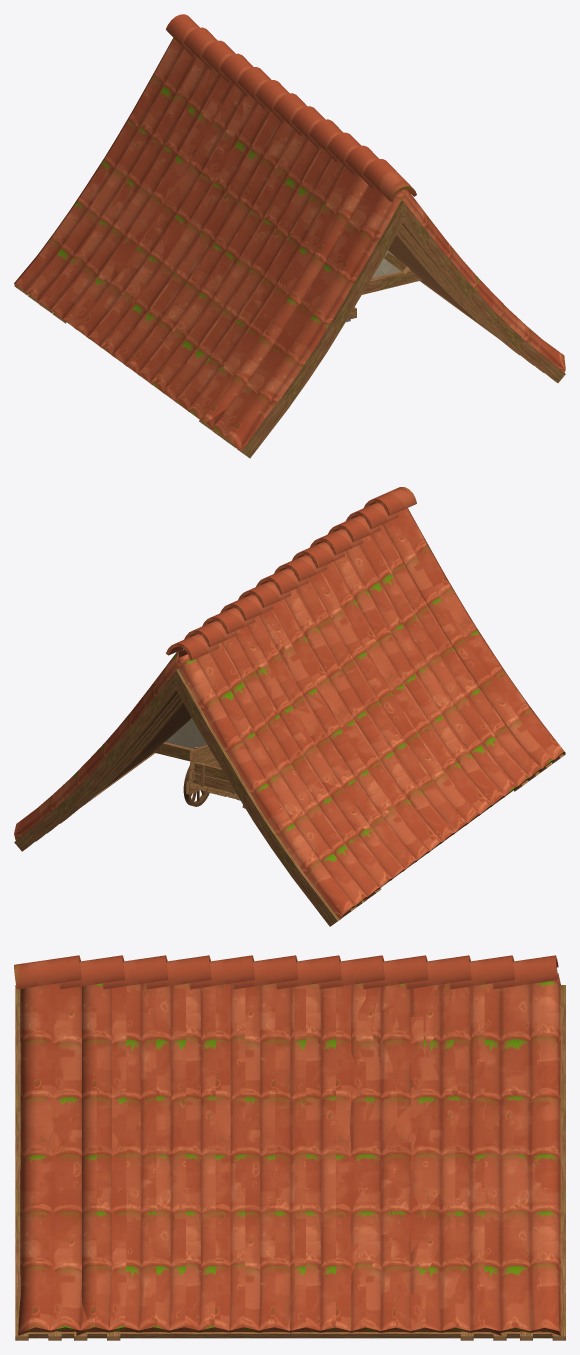
Rendered from kit.glb.
3 renders of one model, top to bottom at view 1: azimuth 30°, elevation 25°; view 2: azimuth 150°, elevation 25°; view 3: azimuth 270°, elevation 25°, orthographic. The views are drawn at different scales.
Visible parts, largest first — view 1: Roof_RoundTiles_6x8, Roof_RoundTiles_6x6, Roof_Front_Brick6; view 2: Roof_RoundTiles_6x8, Roof_RoundTiles_6x6, Prop_Wagon, Roof_Front_Brick6; view 3: Roof_RoundTiles_6x8, Roof_RoundTiles_6x6.
Part boxes in pixels (x1,y1,x2,y2): Roof_RoundTiles_6x8: (14, 14, 565, 458); Roof_RoundTiles_6x6: (39, 27, 533, 438); Roof_Front_Brick6: (362, 250, 422, 294); Roof_RoundTiles_6x8: (14, 487, 565, 926); Roof_RoundTiles_6x6: (47, 506, 541, 906); Prop_Wagon: (183, 744, 245, 808); Roof_Front_Brick6: (152, 718, 206, 761); Roof_RoundTiles_6x8: (14, 955, 565, 1340); Roof_RoundTiles_6x6: (74, 955, 514, 1340).
Bounding box in the file's own units: 8.25 × 7.01 × 9.68.
Materials: 9 (8 with a texture image).
